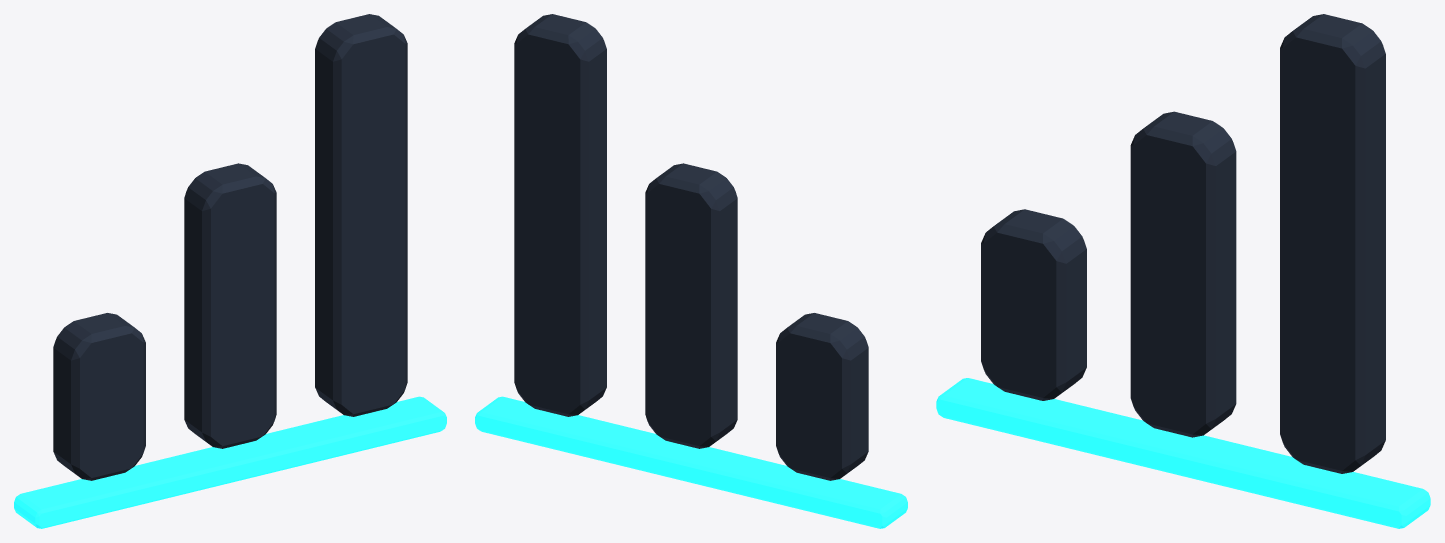
The model's file is symbol-performance.glb.
3 renders of one model, left to right at view 1: azimuth 30°, elevation 25°; view 2: azimuth 150°, elevation 25°; view 3: azimuth 330°, elevation 25°, orthographic. The views are drawn at different scales.
Parts seen in each view (by area): view 1: symbol-performance_SystemMaterial, symbol-performance_SignalMaterial; view 2: symbol-performance_SystemMaterial, symbol-performance_SignalMaterial; view 3: symbol-performance_SystemMaterial, symbol-performance_SignalMaterial.
Part boxes in pixels (box(x1,y1,x2,y2)): symbol-performance_SystemMaterial: box(53, 14, 407, 480); symbol-performance_SignalMaterial: box(14, 396, 446, 528); symbol-performance_SystemMaterial: box(514, 14, 868, 480); symbol-performance_SignalMaterial: box(475, 396, 907, 528); symbol-performance_SystemMaterial: box(981, 14, 1385, 473); symbol-performance_SignalMaterial: box(936, 378, 1430, 528).
Bounding box in the file's own units: 0.88 × 0.85 × 0.09.
